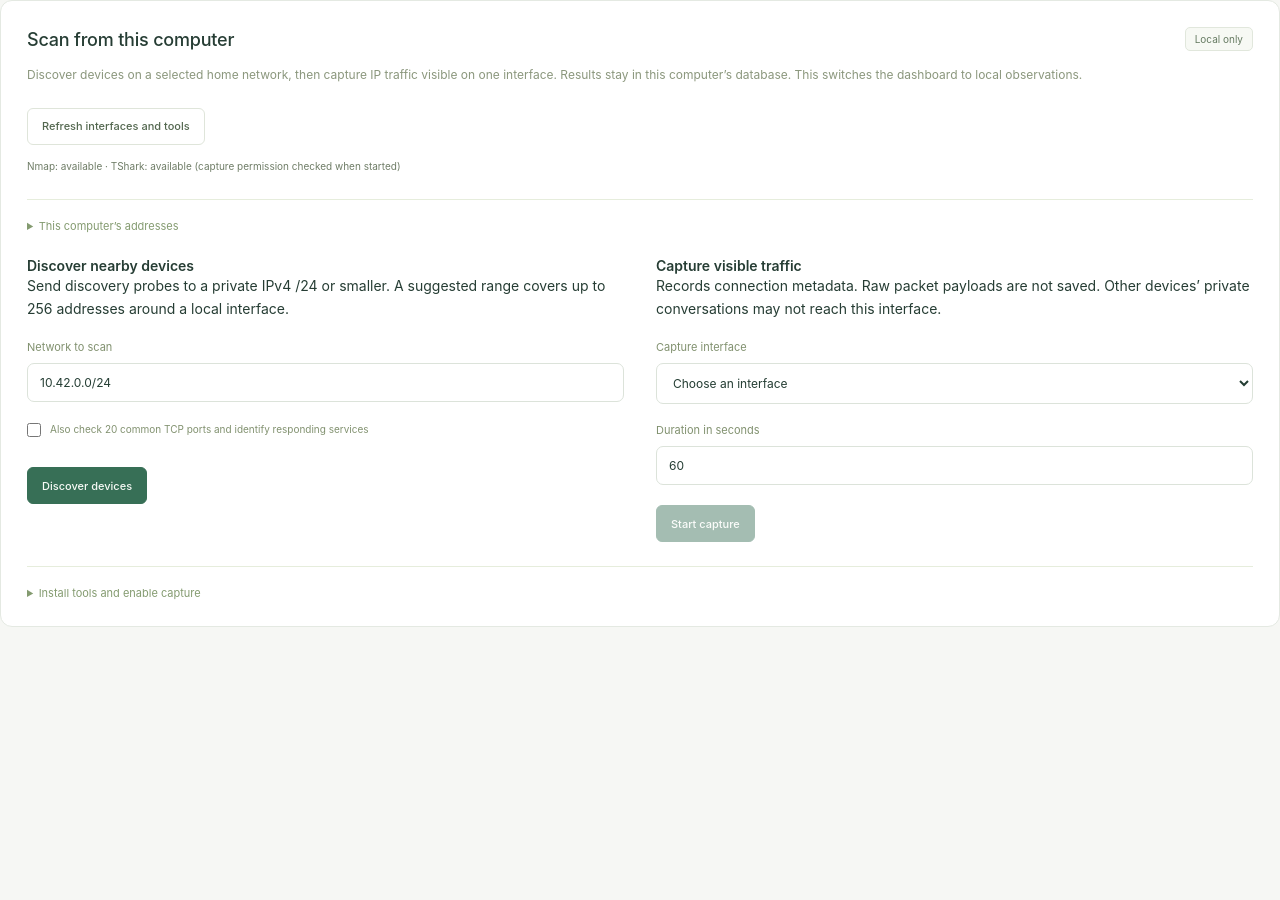
it: keeps a newly started capture when an older status request finishes
Select "Fixture interface" in the dropdown labelled "Capture interface" at coordinates (954, 384), box [656,363,1253,404]
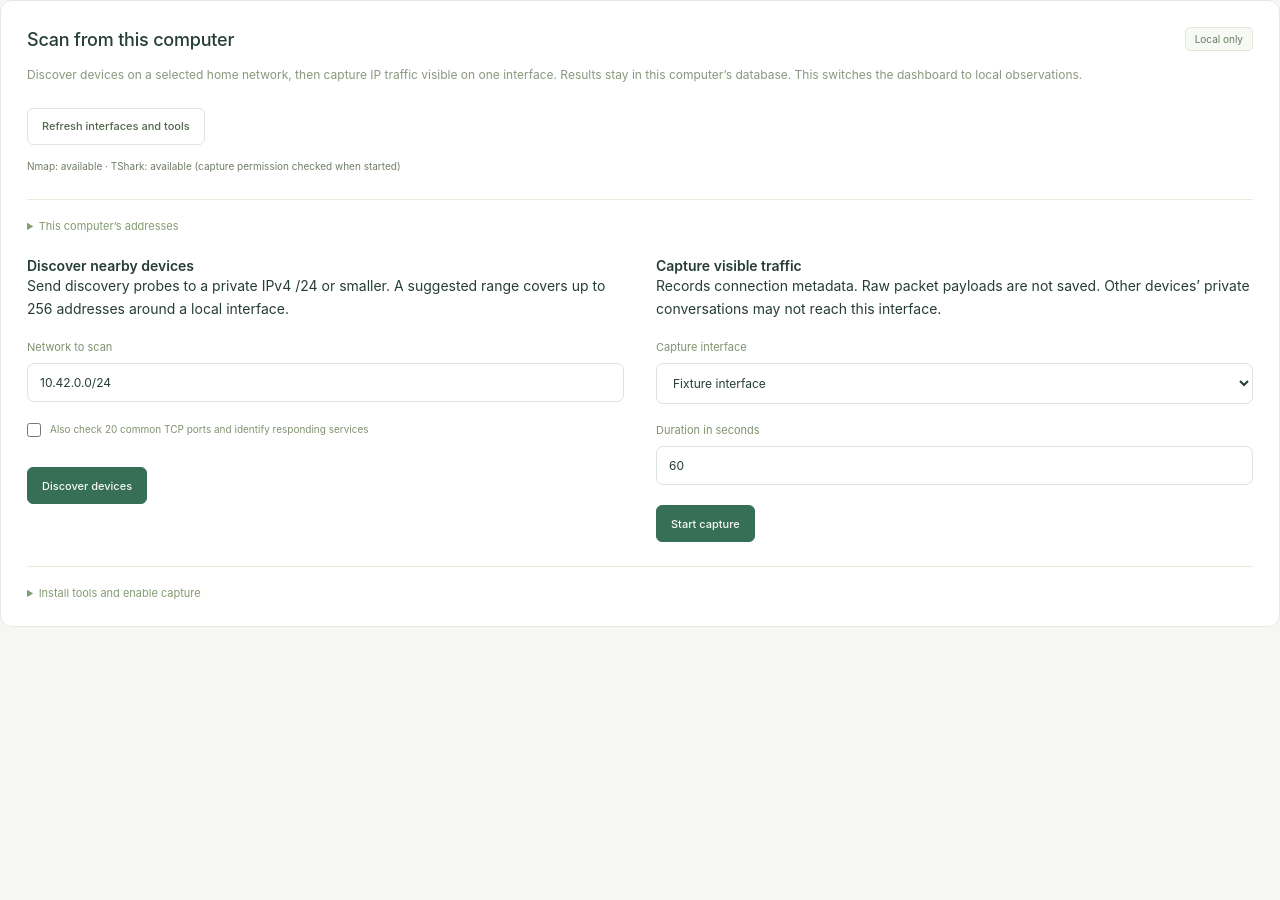
Click the button "Start capture" at coordinates (705, 524), box [656,505,755,542]
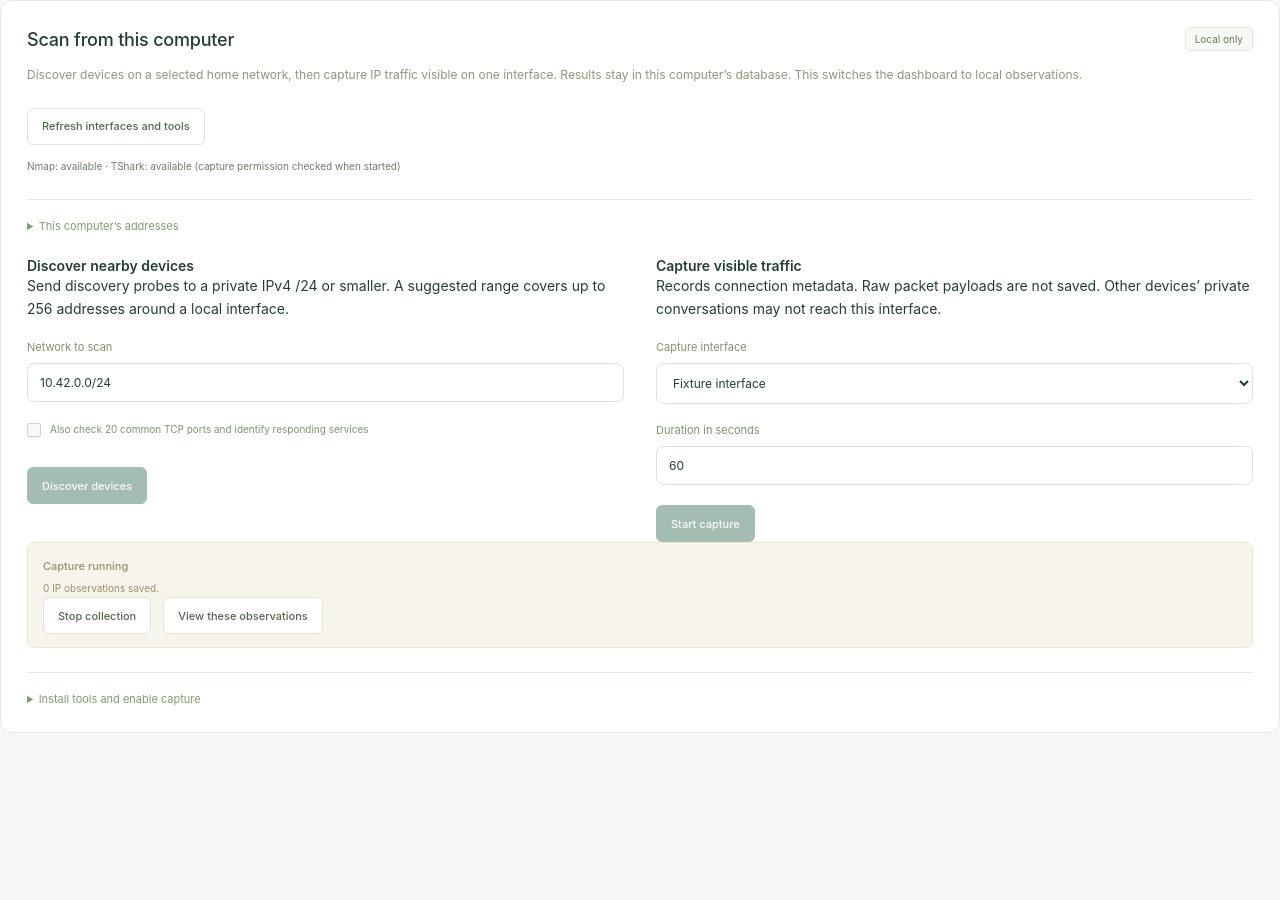
Now the text "Capture running" is shown, box [43,559,128,573]
Now the button "Stop collection" is shown, box [43,597,151,634]
